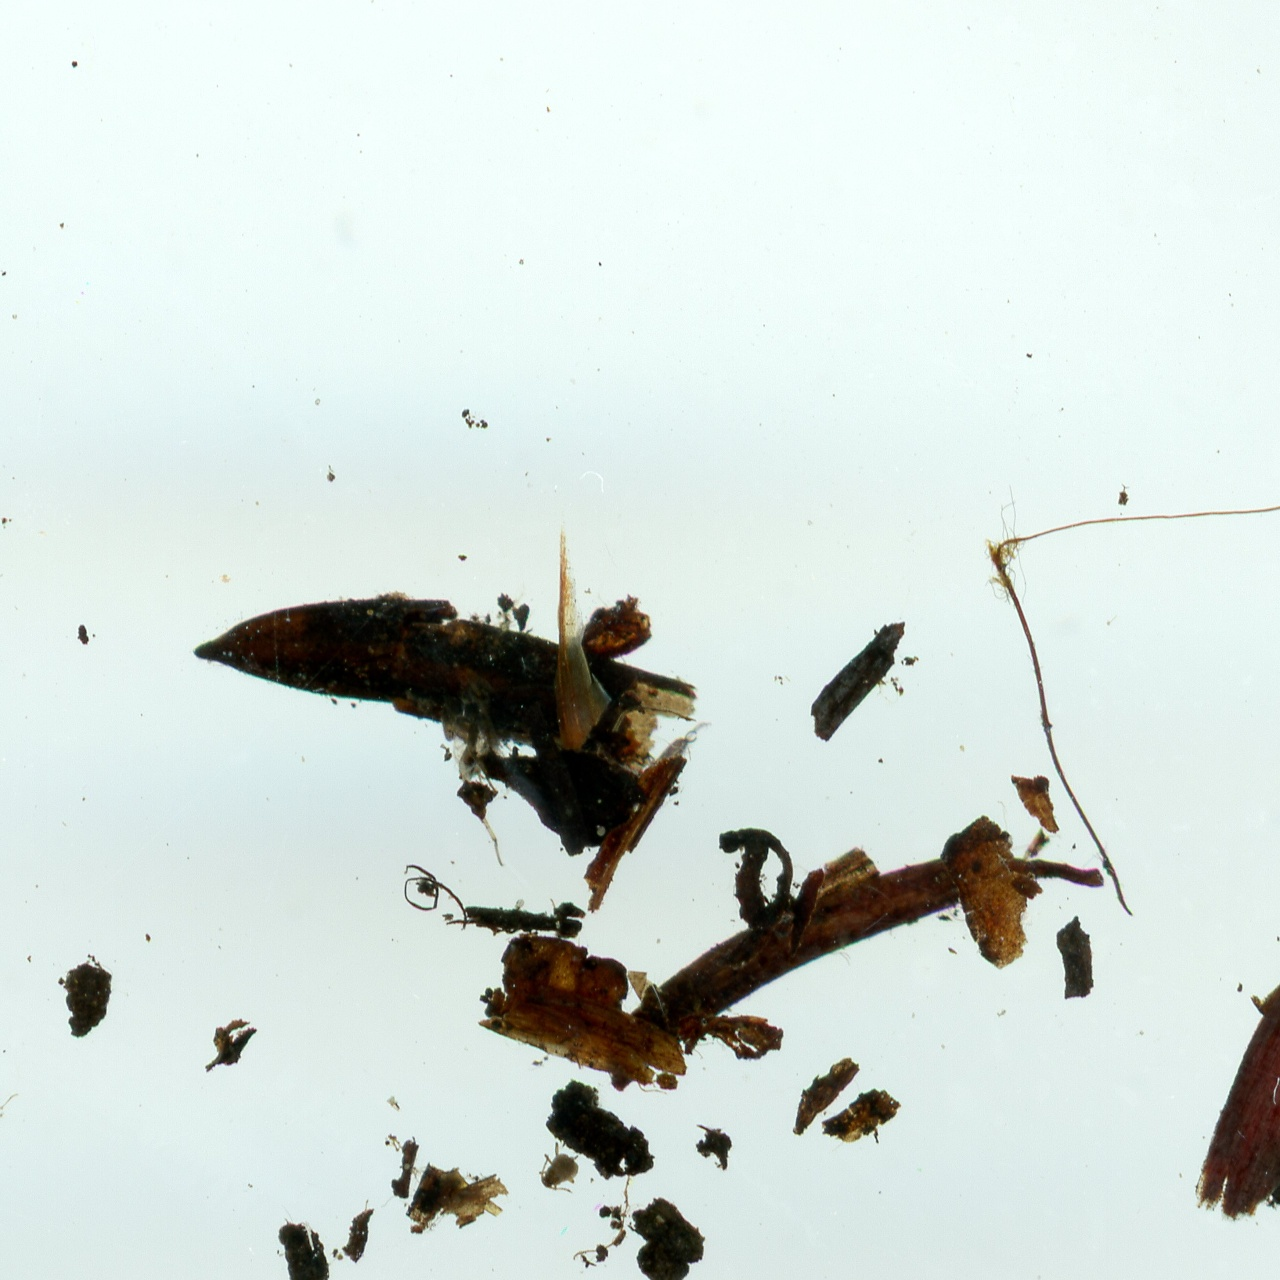arthropod: (653, 704, 720, 779), (536, 1139, 582, 1197)
